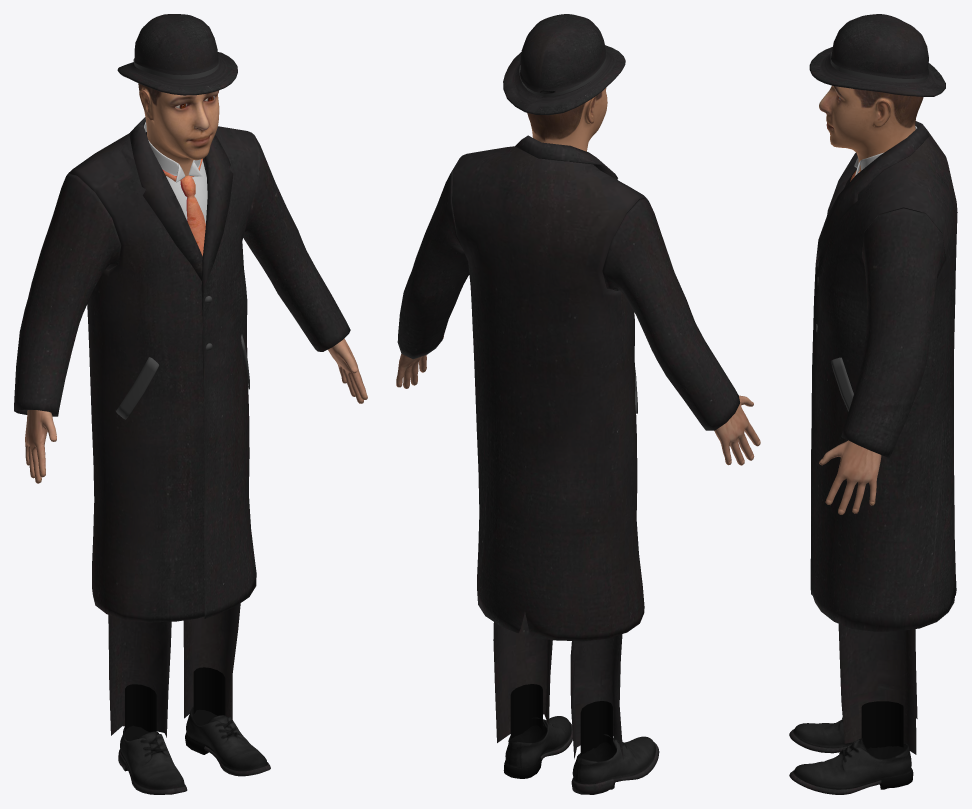
Rendered from Sans titre.gltf.
3 views of the same model, side by side, from view 1: azimuth 30°, elevation 25°; view 2: azimuth 150°, elevation 25°; view 3: azimuth 270°, elevation 25° (orthographic).
Visible parts, largest first — view 1: AVERAGE_MAN; view 2: AVERAGE_MAN; view 3: AVERAGE_MAN.
Part boxes in pixels (x1,y1,x2,y2): AVERAGE_MAN: (14, 14, 367, 794); AVERAGE_MAN: (396, 14, 760, 794); AVERAGE_MAN: (789, 14, 957, 794).
Size of the model in its own units: 0.7992 by 1.7 by 0.347.
Materials: 1 (1 with a texture image).
